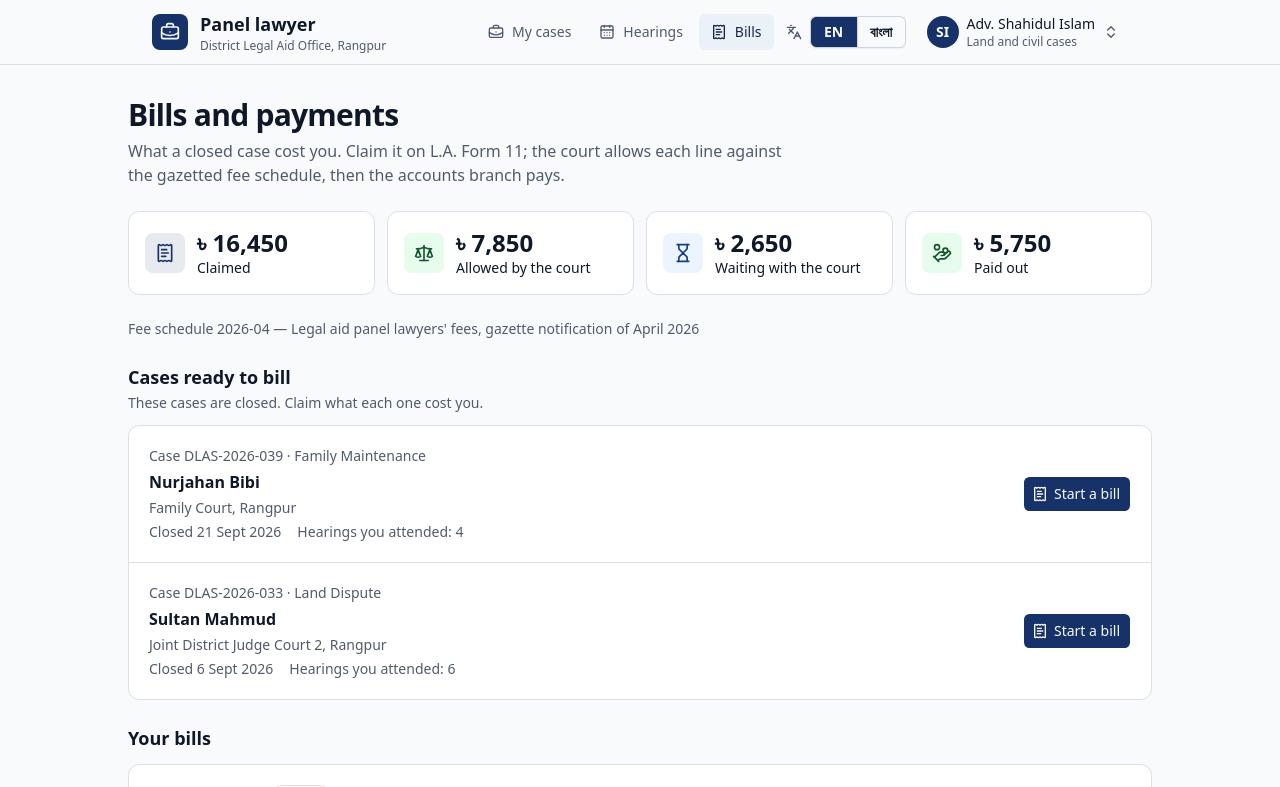
Test case: starting a bill for a closed case › will not send an empty bill to the court
Step 1. Click the button with aria-label "Start a bill: Sultan Mahmud" → (1077, 631), box [1023,613,1131,649]
(page scrolled)
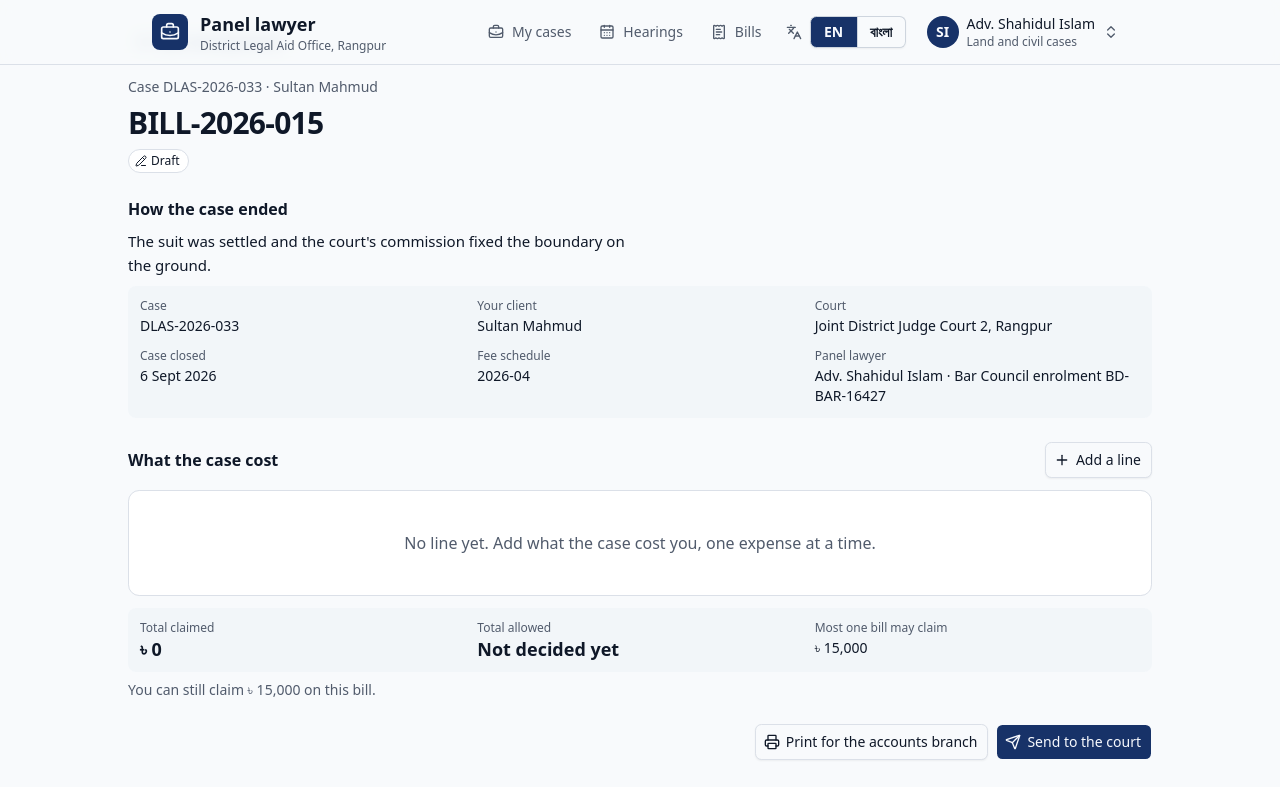
expect the heading "BILL-2026-015" is shown: met, box [128,102,323,143]
Step 2. Click the button "Send to the court" → (1074, 742), box [996,724,1152,760]
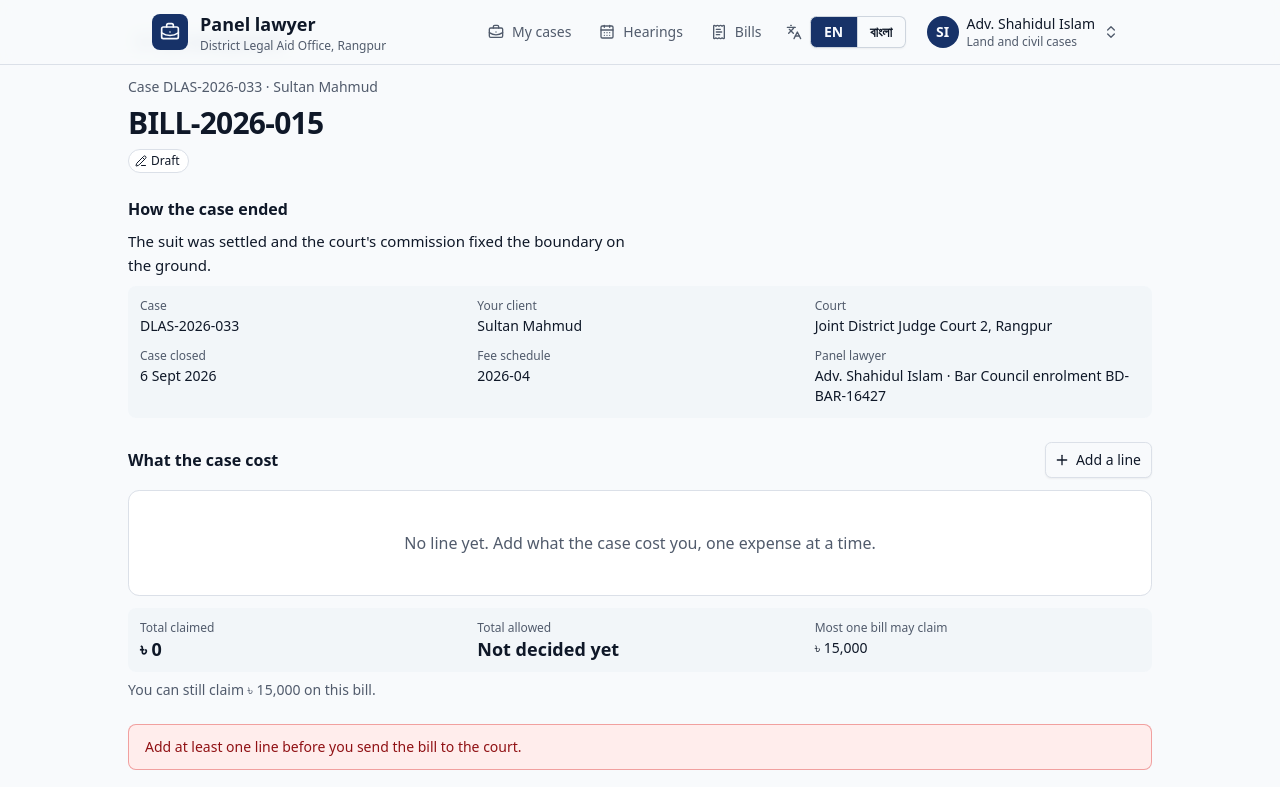
expect the text "Draft" is shown: met, box [128,149,189,173]
expect the text "Add at least one line before you send the bill to the court." is shown: met, box [145,737,522,756]
